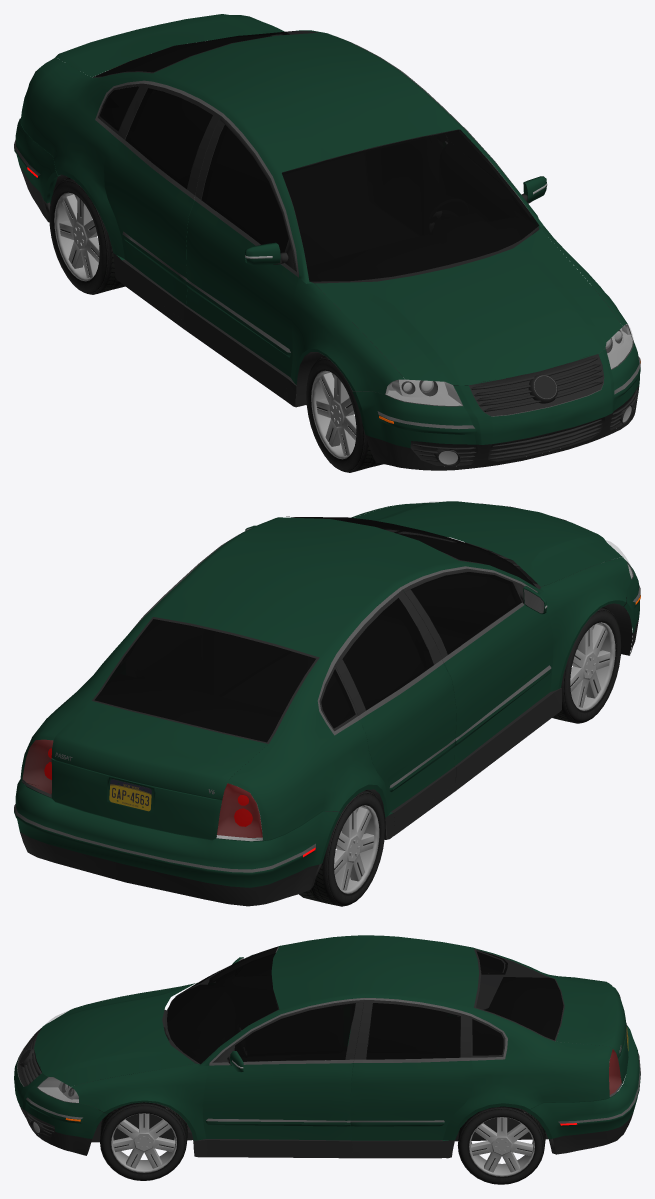
File: vw_passat.glb
The picture shows the model from 3 angles, top to bottom: view 1: azimuth 30°, elevation 25°; view 2: azimuth 150°, elevation 25°; view 3: azimuth 270°, elevation 25°; orthographic projection. The views are drawn at different scales.
Parts seen in each view (by area): view 1: Object_12, Object_4, Object_13, Object_19, Object_24, Object_3, Object_23, Object_6, Object_17; view 2: Object_12, Object_4, Object_13, Object_19, Object_24, Object_3, Object_16, Object_18, Object_23, Object_14; view 3: Object_12, Object_4, Object_13, Object_19, Object_24, Object_3, Object_23, Object_6, Object_17, Object_18, Object_16.
Boxes of the visible parts, box(x1,y1,x2,y2) form: Object_12: box(14, 14, 640, 448); Object_4: box(94, 31, 539, 281); Object_13: box(20, 31, 638, 470); Object_19: box(54, 192, 356, 459); Object_24: box(49, 178, 383, 472); Object_3: box(14, 41, 640, 429); Object_23: box(53, 54, 633, 410); Object_6: box(386, 325, 633, 405); Object_17: box(385, 323, 632, 405); Object_12: box(14, 501, 640, 887); Object_4: box(94, 516, 536, 742); Object_13: box(20, 503, 638, 906); Object_19: box(334, 622, 615, 893); Object_24: box(299, 607, 621, 906); Object_3: box(14, 531, 640, 872); Object_16: box(22, 739, 262, 837); Object_18: box(23, 605, 547, 841); Object_23: box(51, 551, 633, 839); Object_14: box(109, 779, 151, 811); Object_12: box(14, 935, 640, 1140); Object_4: box(167, 946, 563, 1064); Object_13: box(17, 949, 633, 1170); Object_19: box(111, 1113, 534, 1176); Object_24: box(100, 1045, 595, 1184); Object_3: box(17, 947, 640, 1123); Object_23: box(37, 953, 621, 1155); Object_6: box(37, 1011, 77, 1102); Object_17: box(37, 1077, 78, 1102); Object_18: box(33, 1049, 620, 1132); Object_16: box(609, 1049, 621, 1094).
Bounding box in the file's own units: 1.68 × 1.29 × 4.19.
Materials: 19 (2 with a texture image).
